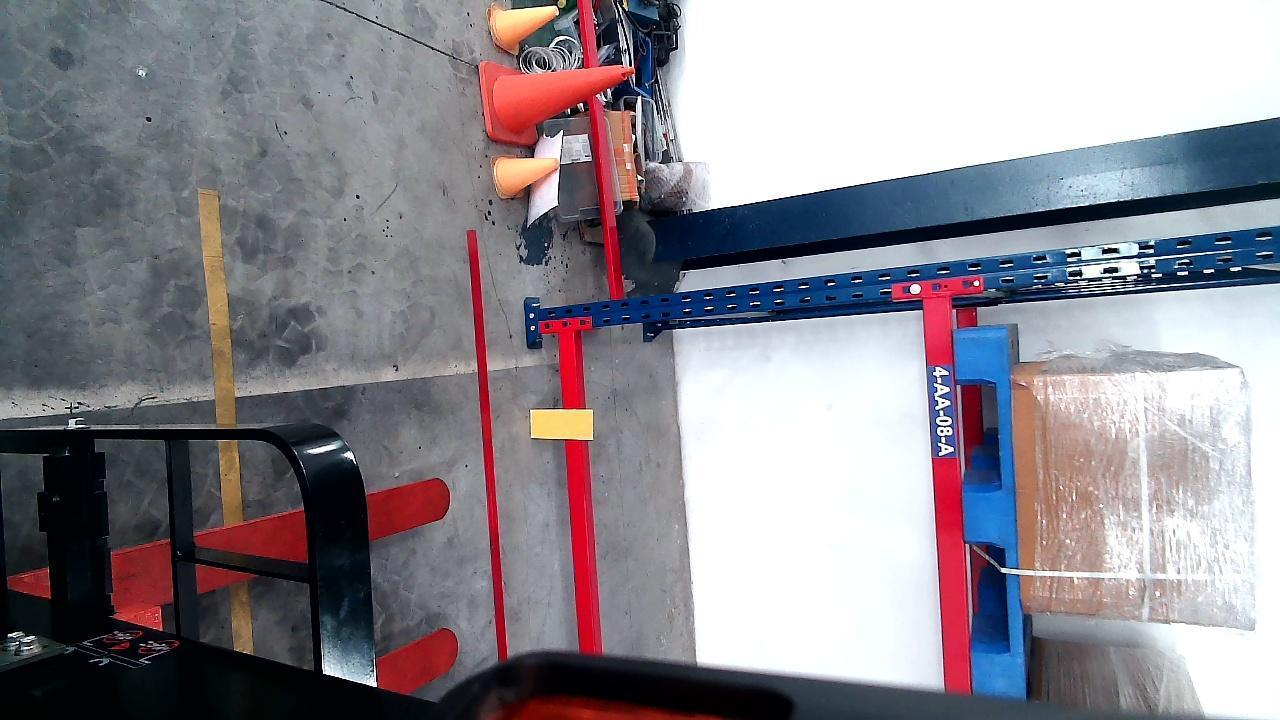h_rack: (925, 293, 969, 692), (559, 331, 598, 649)
orange_strip: (531, 409, 592, 438)
red_line: (473, 234, 505, 663)
small_pallet: (959, 333, 1024, 683)
yellow_line: (200, 177, 245, 528)
